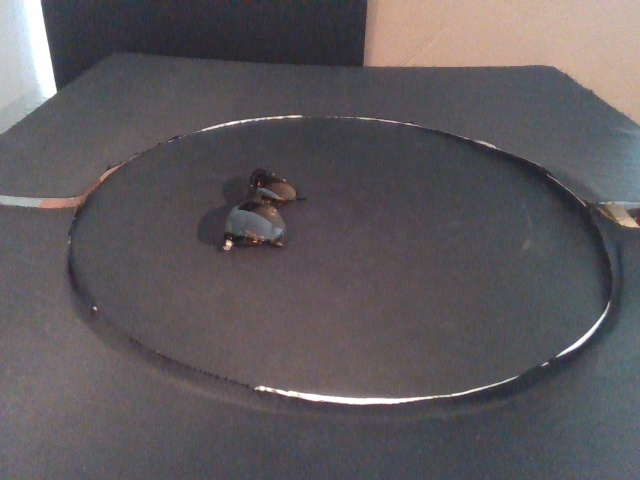glasses: (224, 166, 307, 252)
